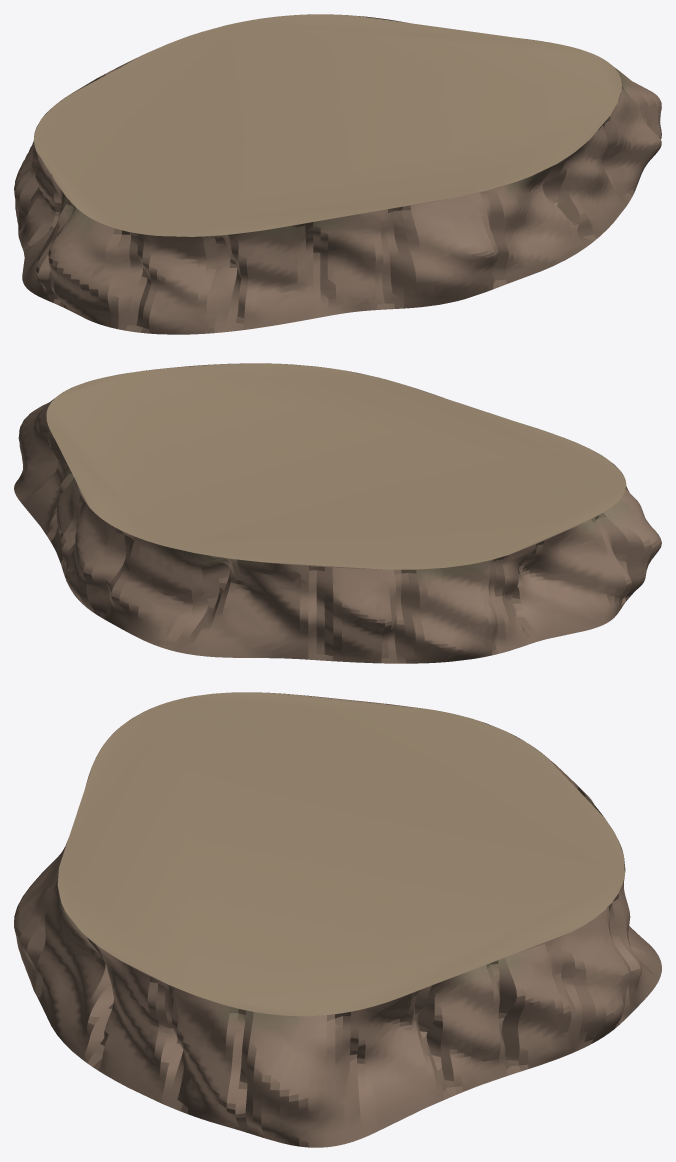
Rendered from coast_0.glb.
3 renders of one model, top to bottom at view 1: azimuth 30°, elevation 25°; view 2: azimuth 150°, elevation 25°; view 3: azimuth 270°, elevation 25°, orthographic. The views are drawn at different scales.
Visible parts, largest first — view 1: Harbor eroded bank; view 2: Harbor eroded bank; view 3: Harbor eroded bank.
Part boxes in pixels (left/top/right/bottom): Harbor eroded bank: left=14, top=14, right=661, bottom=334; Harbor eroded bank: left=14, top=363, right=661, bottom=663; Harbor eroded bank: left=14, top=692, right=661, bottom=1147.
Bounding box in the file's own units: 29.58 × 4.09 × 21.7.
